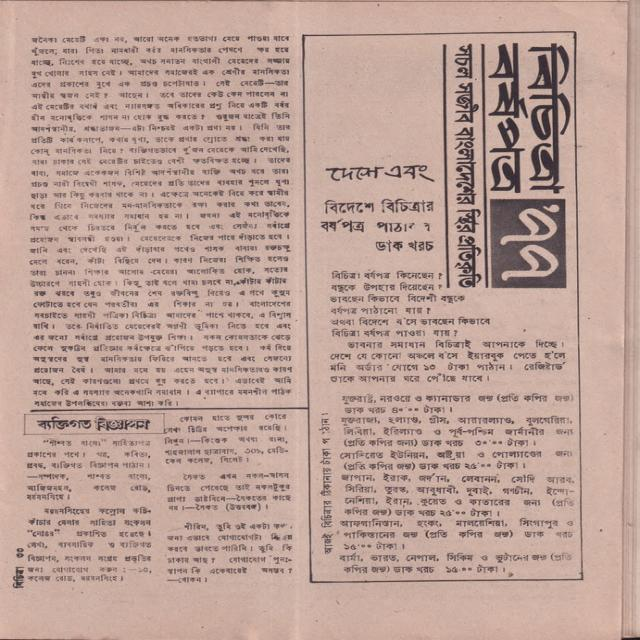advertisement: (303, 32, 583, 581), (27, 504, 155, 586), (160, 517, 298, 585), (21, 436, 158, 502), (160, 411, 297, 468), (160, 470, 295, 515)
page number: (15, 547, 25, 558)
paragraph: (23, 31, 296, 411)
text: (12, 566, 25, 589)
title: (30, 413, 154, 434)
